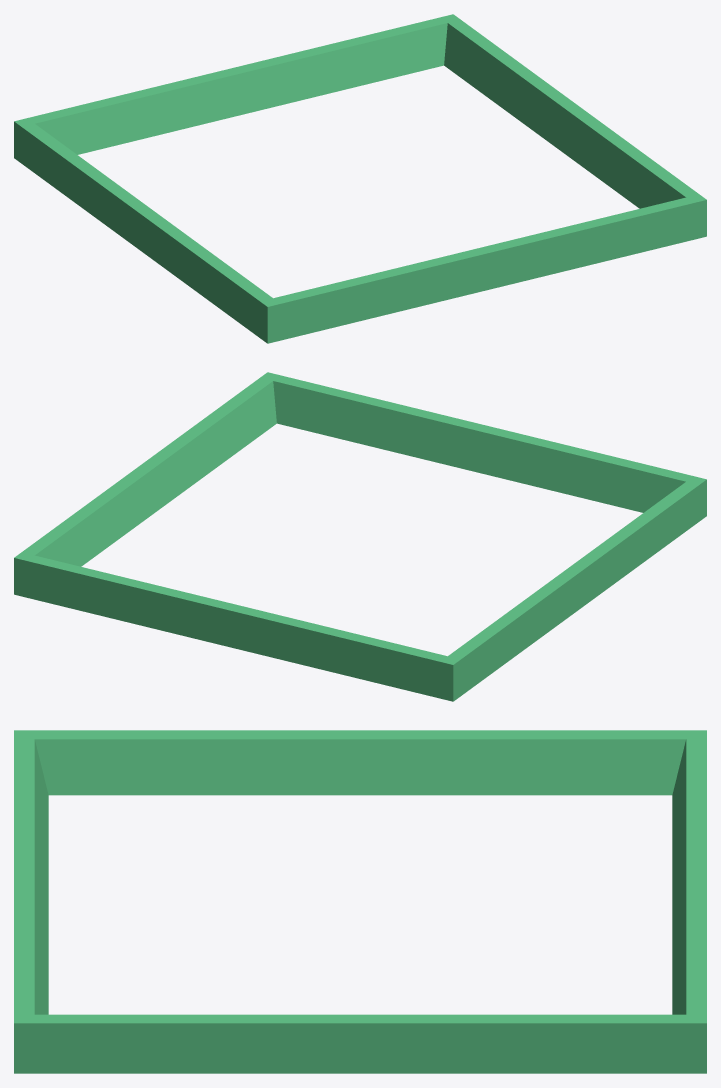
File: road_square_barrier.glb
The picture shows the model from 3 angles, top to bottom: view 1: azimuth 30°, elevation 25°; view 2: azimuth 150°, elevation 25°; view 3: azimuth 270°, elevation 25°; orthographic projection. The views are drawn at different scales.
Visible parts, largest first — view 1: road-square-barrier; view 2: road-square-barrier; view 3: road-square-barrier.
Part boxes in pixels (x1,y1,x2,y2): road-square-barrier: (14, 14, 706, 343); road-square-barrier: (14, 372, 706, 701); road-square-barrier: (14, 730, 706, 1073).
Size of the model in its own units: 1 by 0.08 by 1.
Materials: 1 (1 with a texture image).
